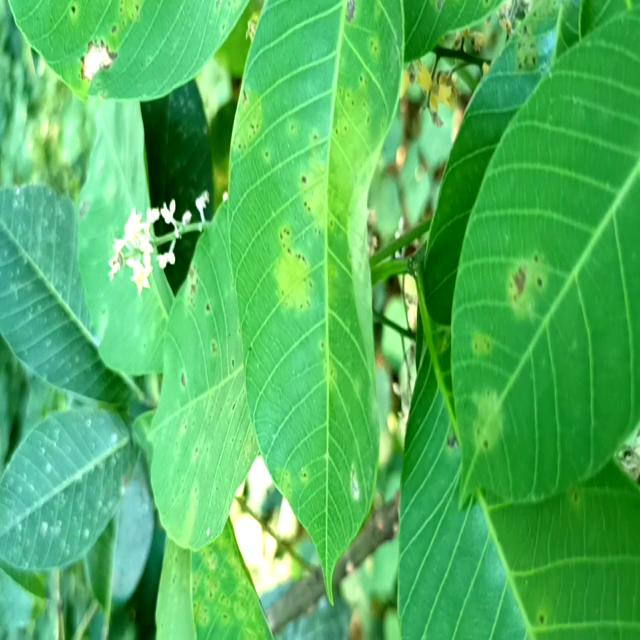Leaf-Blight: (82, 43, 112, 80)
